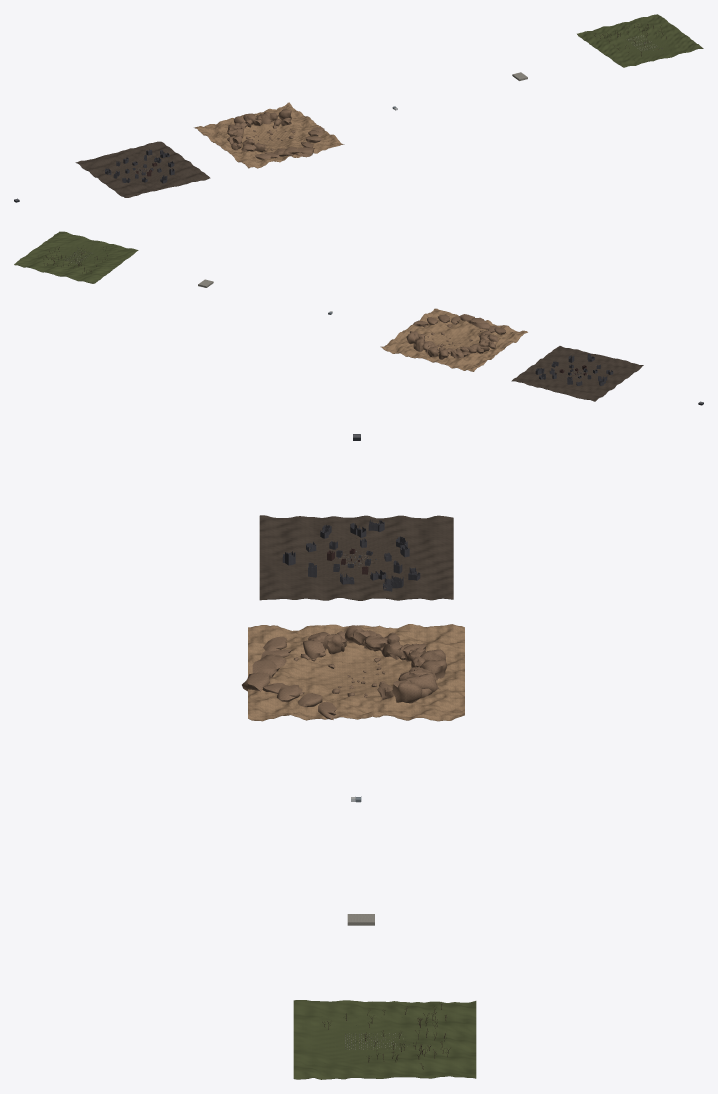
Rendered from DeathsGambitMaps_Scenes.fbx.
3 renders of one model, top to bottom at view 1: azimuth 30°, elevation 25°; view 2: azimuth 150°, elevation 25°; view 3: azimuth 270°, elevation 25°, orthographic. The views are drawn at different scales.
Bounding box in the file's own units: 5335 × 141 × 823.
86 materials, 61 textured.
